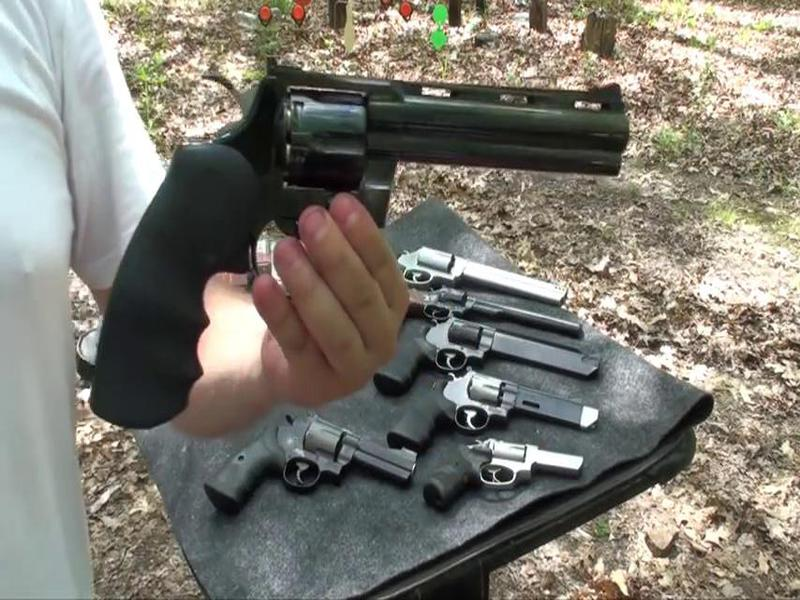Revolver: (92, 43, 640, 419)
